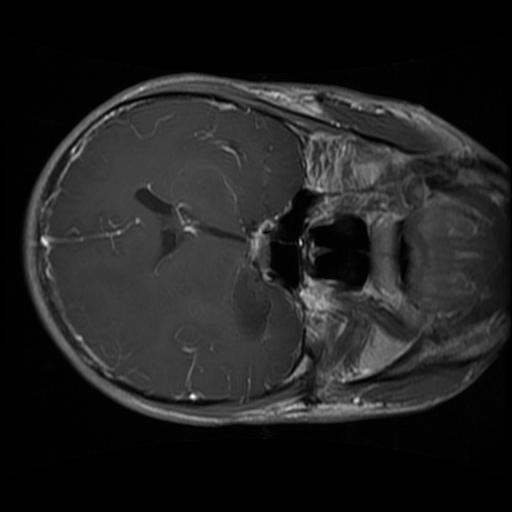glioma: (231, 262, 273, 341)
